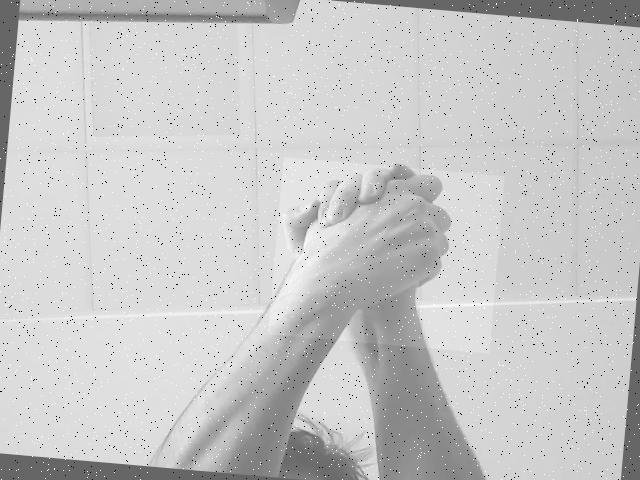friend: (268, 156, 504, 354)
